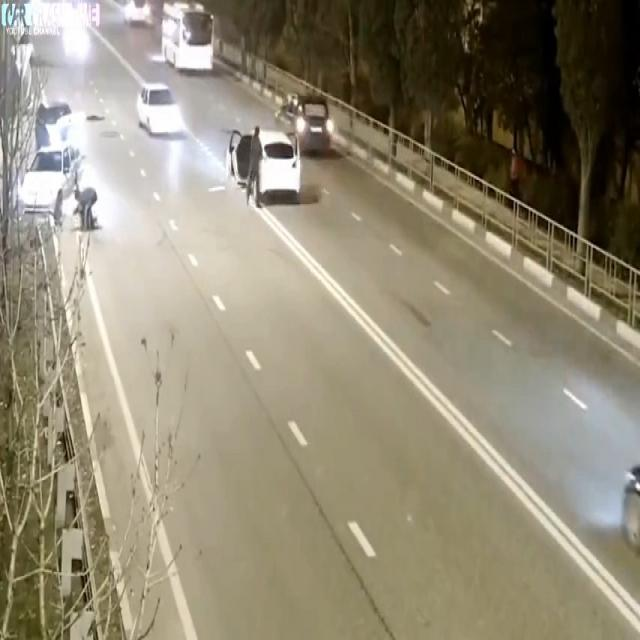Accident: (14, 113, 92, 238)
